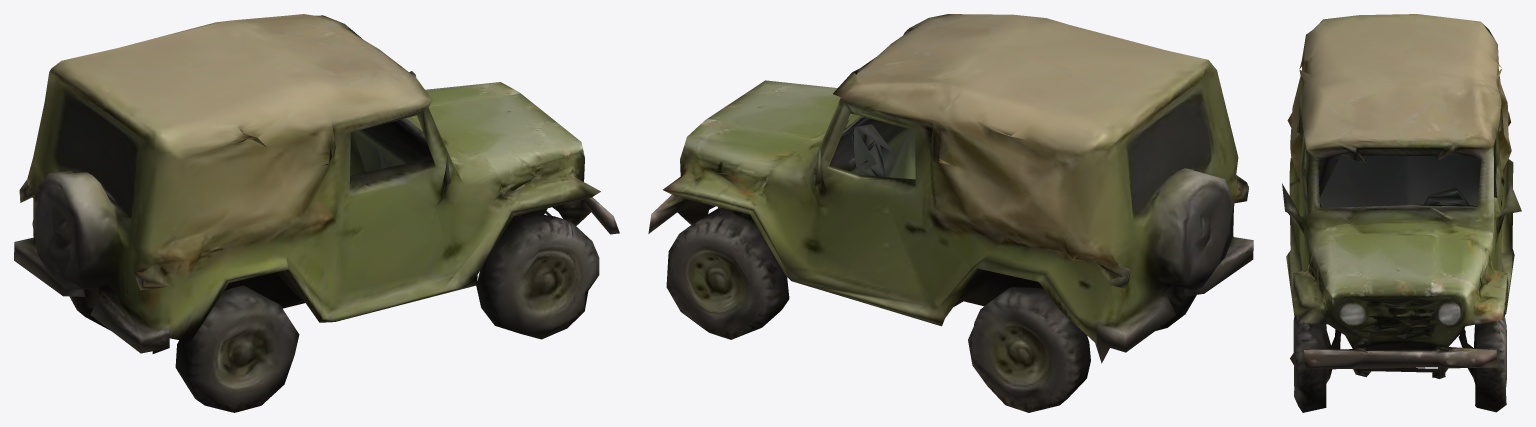
The model's file is e_uaz.glb.
The picture shows the model from 3 angles, left to right: view 1: azimuth 30°, elevation 25°; view 2: azimuth 150°, elevation 25°; view 3: azimuth 270°, elevation 25°; orthographic projection. The views are drawn at different scales.
Parts seen in each view (by area): view 1: tripo_node_4929d042-7bdd-4e64-a2a7-7dabb21d4bcc; view 2: tripo_node_4929d042-7bdd-4e64-a2a7-7dabb21d4bcc; view 3: tripo_node_4929d042-7bdd-4e64-a2a7-7dabb21d4bcc.
Part boxes in pixels (x1,y1,x2,y2): tripo_node_4929d042-7bdd-4e64-a2a7-7dabb21d4bcc: [14, 14, 619, 412]; tripo_node_4929d042-7bdd-4e64-a2a7-7dabb21d4bcc: [648, 14, 1253, 412]; tripo_node_4929d042-7bdd-4e64-a2a7-7dabb21d4bcc: [1282, 14, 1521, 412].
Size of the model in its own units: 1 by 0.5518 by 0.4978.
1 material, 1 textured.
